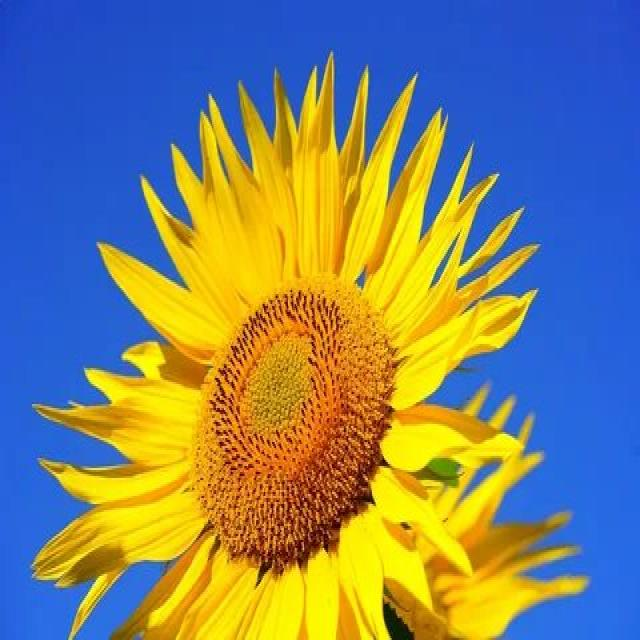sunflower: (31, 52, 588, 636)
